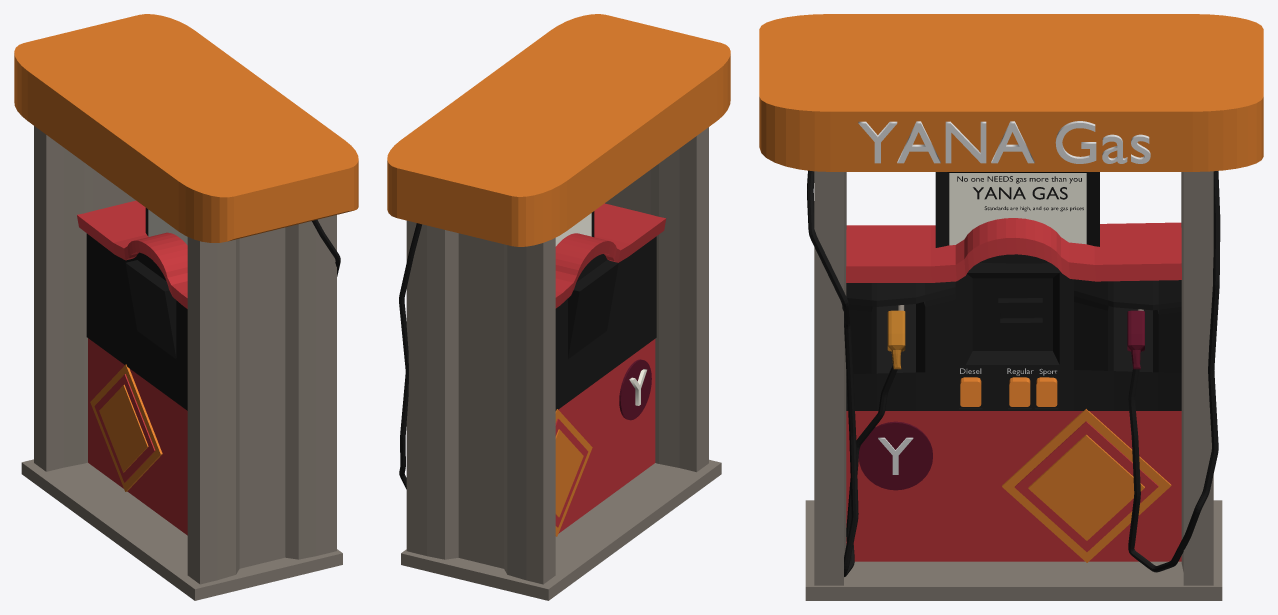
File: Gas.fbx
3 views of the same model, side by side, from view 1: azimuth 30°, elevation 25°; view 2: azimuth 150°, elevation 25°; view 3: azimuth 270°, elevation 25° (orthographic). The views are drawn at different scales.
Visible parts, largest first — view 1: Cube.002, Cube.003, Cube.005, Cube.004, Cube; view 2: Cube.002, Cube.003, Cube.005, Cube.004, Cube, Plane.001; view 3: Cube.003, Cube.005, Cube.004, Cube.002, Cube, Text, Plane.001, Plane, Cube.011, Cube.010.
Part boxes in pixels (x1,y1,x2,y2): Cube.002: (34,126,336,584); Cube.003: (14,14,358,242); Cube.005: (77,200,187,410); Cube.004: (88,338,187,535); Cube: (21,459,342,600); Cube.002: (406,127,708,584); Cube.003: (387,14,730,246); Cube.005: (555,203,666,410); Cube.004: (555,339,655,536); Cube: (401,459,721,600); Plane.001: (399,223,421,489); Cube.003: (759,14,1263,171); Cube.005: (846,172,1181,410); Cube.004: (846,409,1181,562); Cube.002: (814,171,1213,585); Cube: (805,500,1222,600); Text: (858,121,1150,163); Plane.001: (1128,171,1220,572); Plane: (807,170,897,576); Cube.011: (887,305,905,369); Cube.010: (1127,309,1144,369).
Size of the model in its own units: 204 by 474 by 436.
